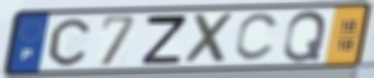7: (99, 14, 138, 69)
C: (232, 11, 283, 64), (46, 16, 92, 68)
Q: (281, 9, 329, 64)
X: (183, 11, 239, 67)
Z: (140, 14, 190, 66)
